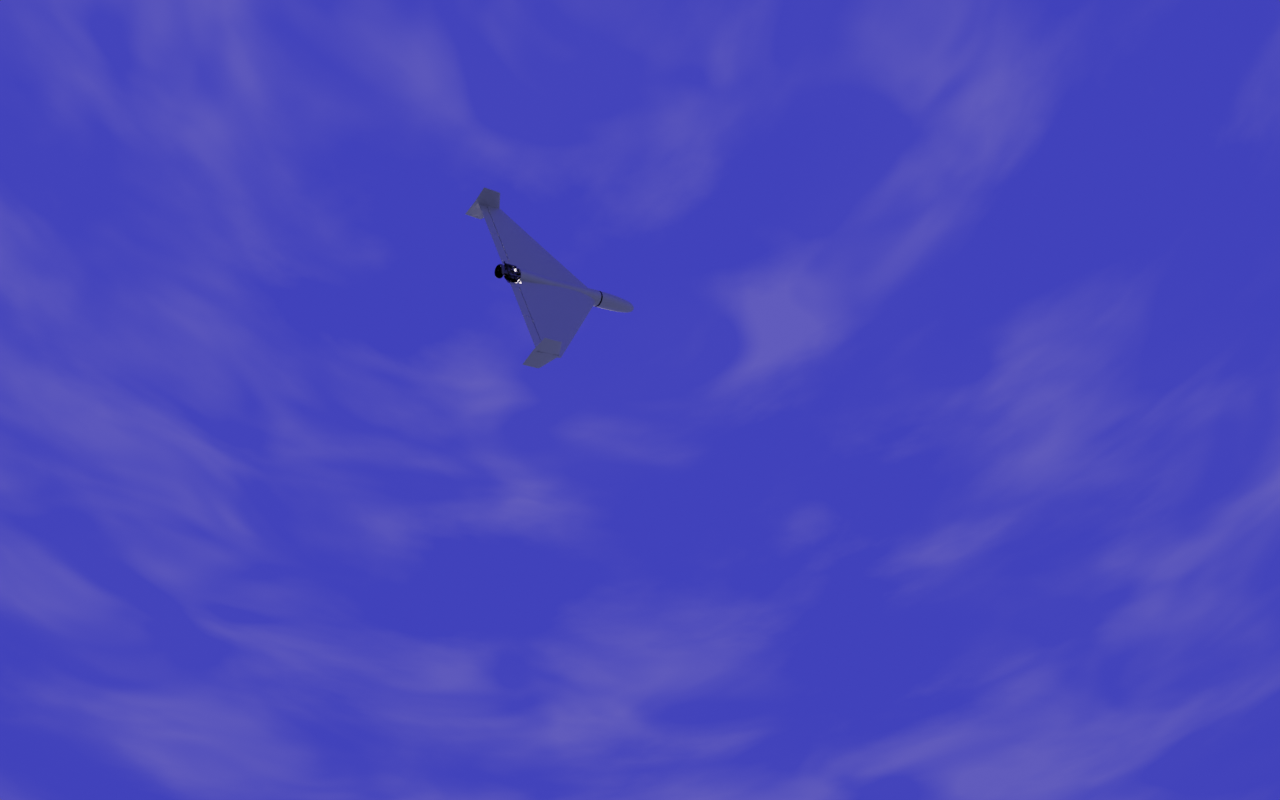shahed: (465, 187, 636, 370)
